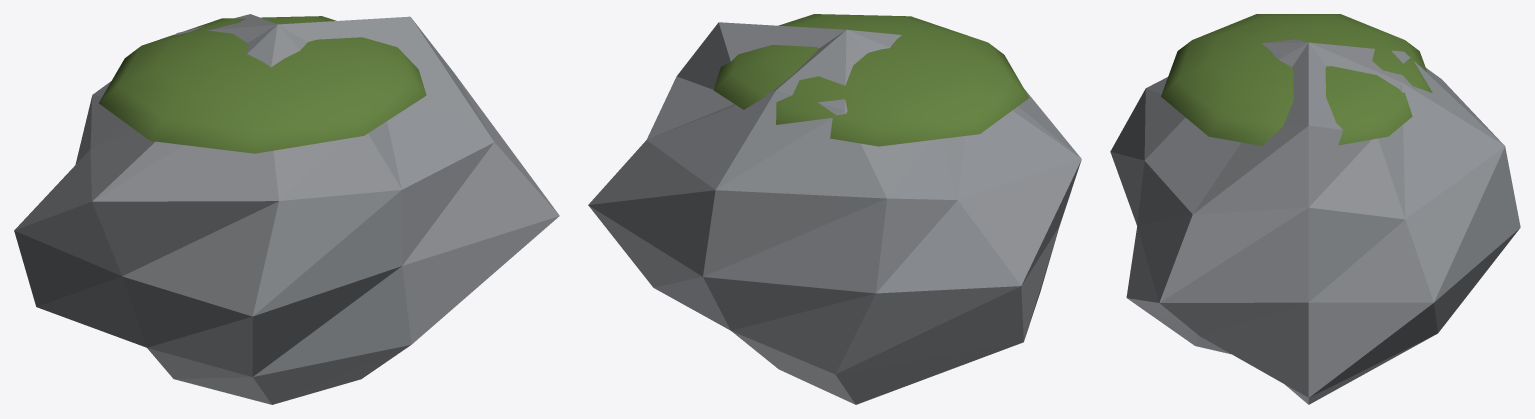
File: Rock.glb
The picture shows the model from 3 angles, left to right: view 1: azimuth 30°, elevation 25°; view 2: azimuth 150°, elevation 25°; view 3: azimuth 270°, elevation 25°; orthographic projection. The views are drawn at different scales.
Parts seen in each view (by area): view 1: Stone, MossCap; view 2: Stone, MossCap; view 3: Stone, MossCap.
Boxes of the visible parts, bbox=[...] form: Stone: bbox=[14, 14, 559, 404]; MossCap: bbox=[99, 16, 426, 153]; Stone: bbox=[588, 22, 1081, 404]; MossCap: bbox=[713, 14, 1029, 146]; Stone: bbox=[1110, 39, 1520, 404]; MossCap: bbox=[1161, 14, 1432, 145].
Size of the model in its own units: 2.39 by 1.79 by 2.02.
